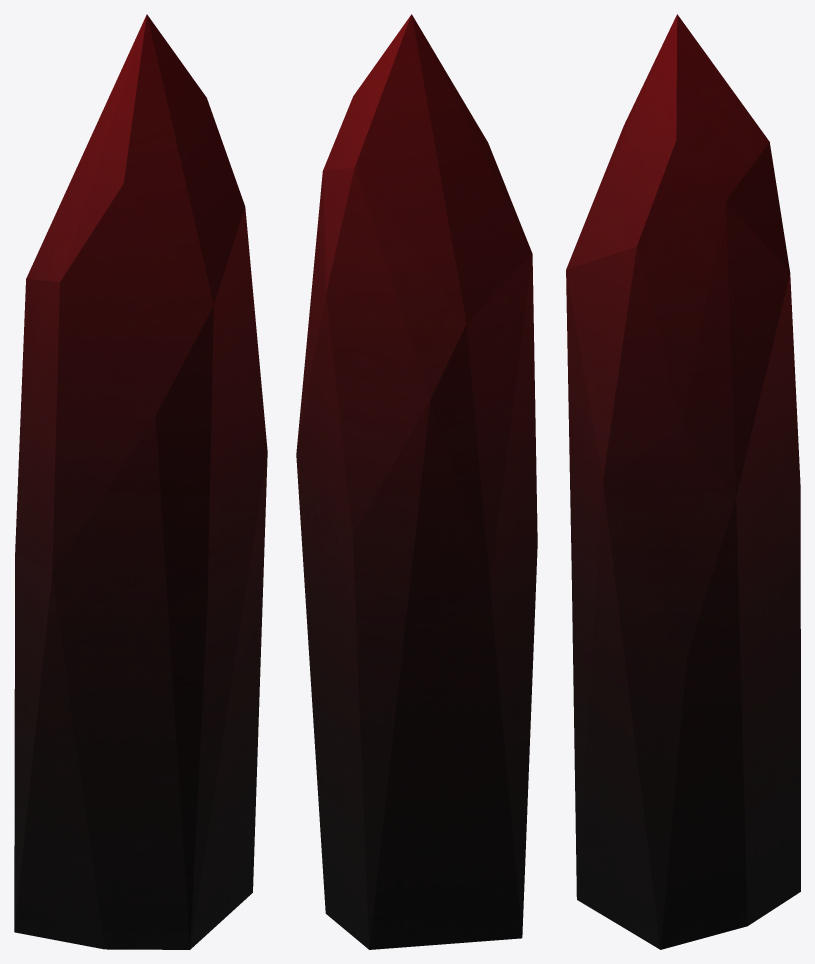
The model's file is Spike1.fbx.
The picture shows the model from 3 angles, left to right: view 1: azimuth 30°, elevation 25°; view 2: azimuth 150°, elevation 25°; view 3: azimuth 270°, elevation 25°; orthographic projection.
Parts seen in each view (by area): view 1: Spike1; view 2: Spike1; view 3: Spike1.
Boxes of the visible parts, left/top/right/bottom form: Spike1: left=14, top=14, right=267, bottom=949; Spike1: left=296, top=14, right=537, bottom=949; Spike1: left=566, top=14, right=800, bottom=949.
Size of the model in its own units: 1.17 by 4.55 by 1.09.
1 material, 1 textured.
